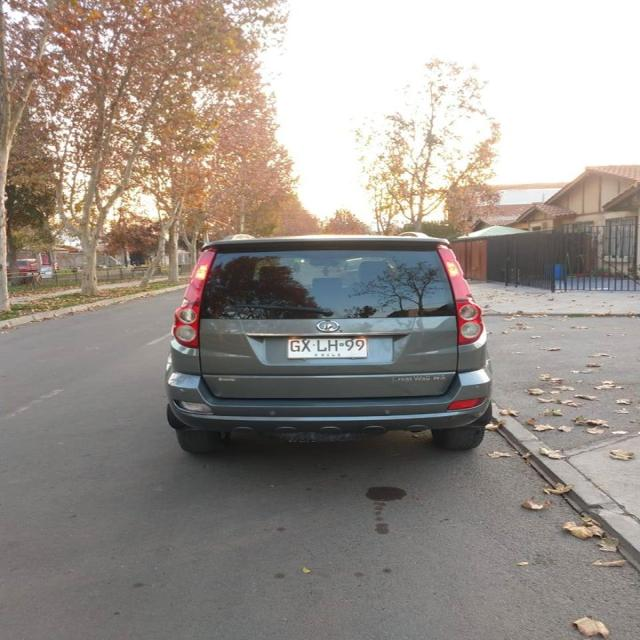patente: (284, 336, 368, 359)
